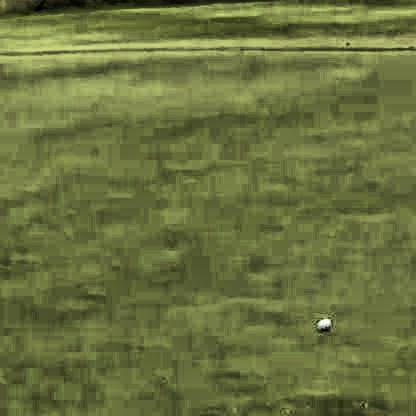golfball: (314, 316, 329, 330)
